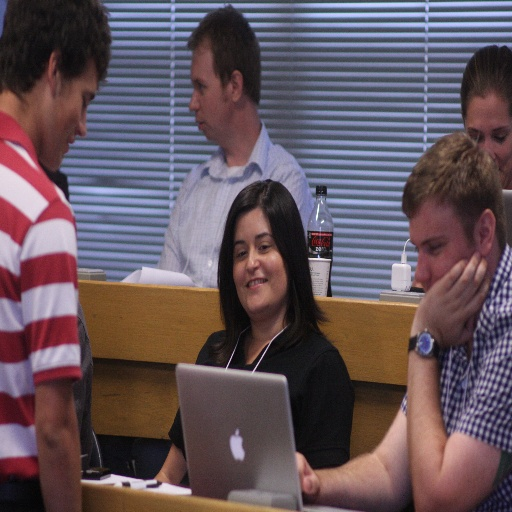hand: (414, 245, 495, 364), (294, 450, 321, 503)
